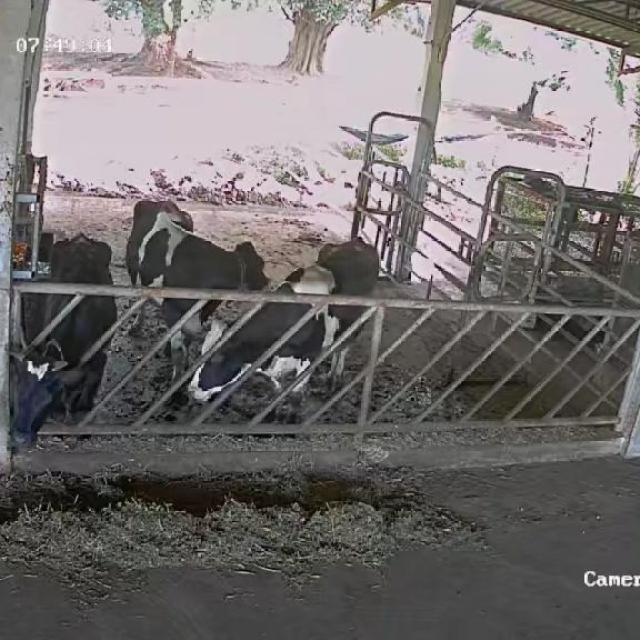feeding: (5, 229, 126, 468)
standing: (183, 237, 384, 417), (119, 198, 274, 403)
